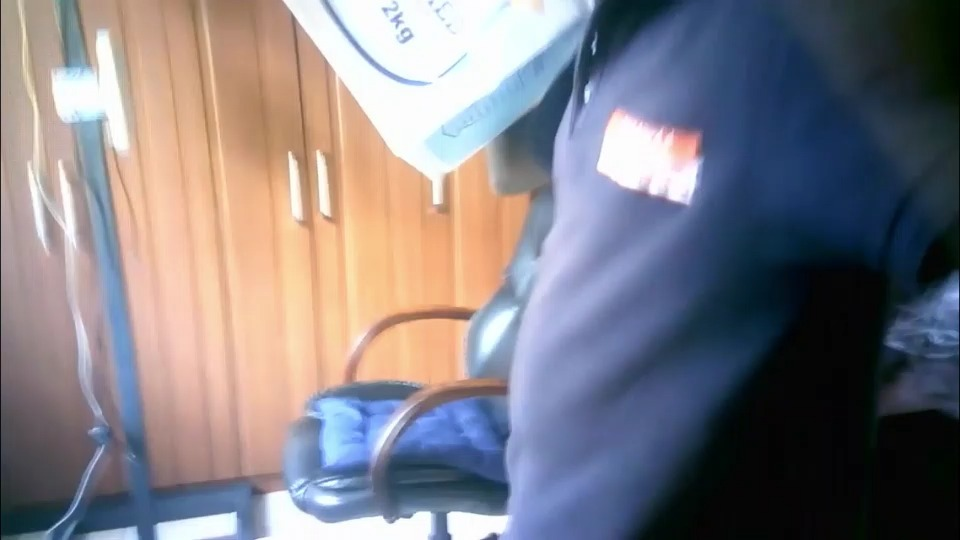wheat_flour_blue_label: (286, 2, 598, 172)
